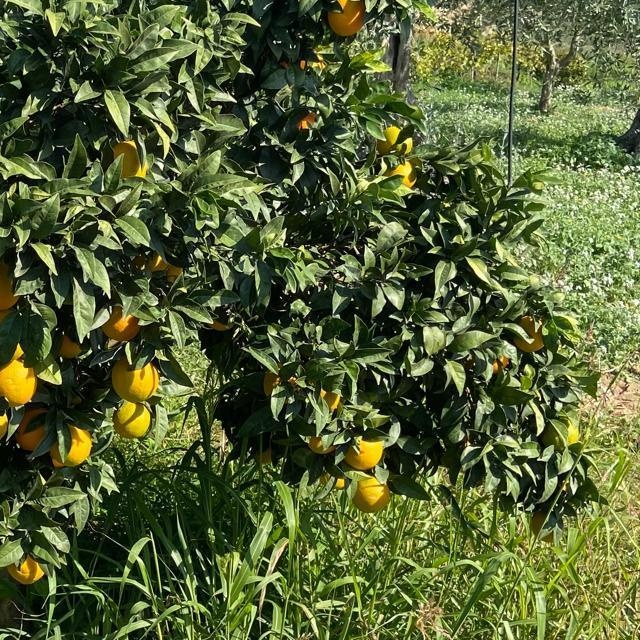orange: (0, 238, 37, 312), (110, 354, 162, 400), (100, 298, 144, 342), (46, 422, 92, 464), (321, 0, 371, 36), (345, 473, 391, 511), (15, 405, 53, 449), (112, 396, 150, 436), (149, 242, 187, 282), (342, 433, 384, 469), (2, 552, 48, 584), (0, 362, 35, 404), (513, 315, 553, 351), (109, 140, 147, 176), (475, 337, 509, 373), (306, 425, 340, 459), (383, 157, 417, 191), (55, 322, 87, 356), (292, 105, 324, 137), (378, 126, 408, 154), (0, 405, 9, 443)
